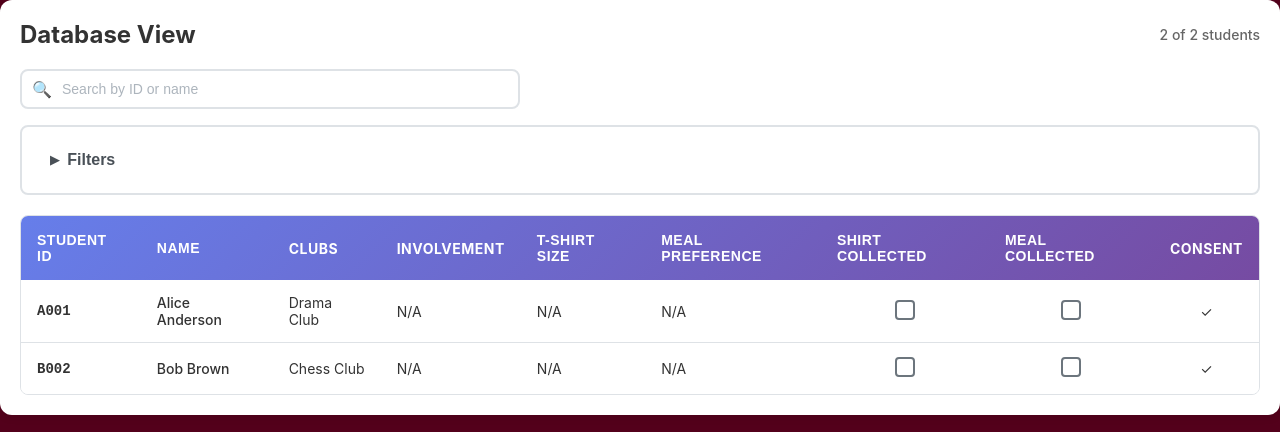
Test: Edge Cases › Empty search query (Requirement 2.4) › should display all records when search query is empty
Expected: the text "Alice Anderson" is shown, [141, 280, 273, 342]
Expected: the text "Bob Brown" is shown, [141, 342, 273, 394]
// Apply search
Type "Alice" into the search field with placeholder "Search by ID or name" at (270, 89), box [20, 69, 520, 109]
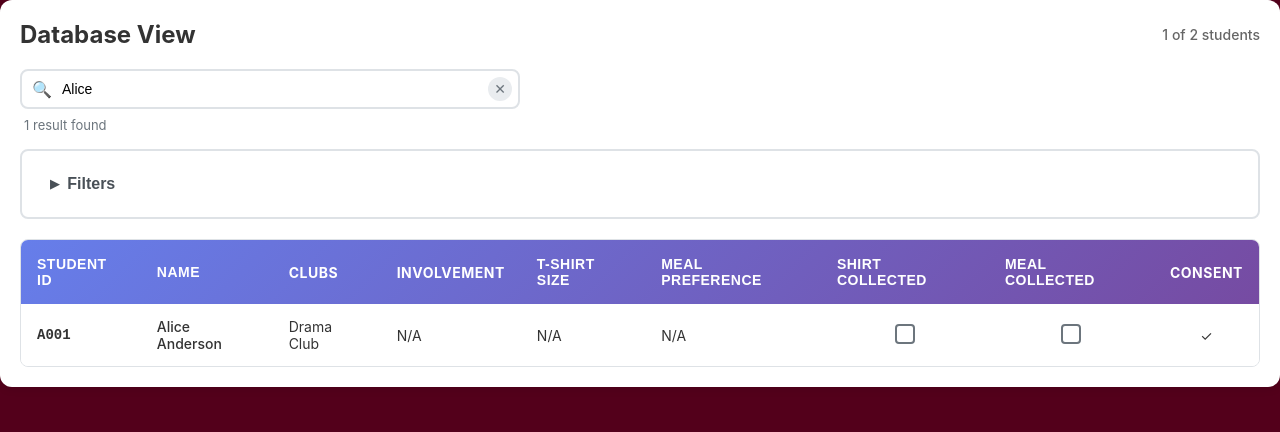
Expected: the text "Alice Anderson" is shown, [141, 304, 273, 366]
Expected: the text "Bob Brown" is gone
// Clear search (empty query)
Clear the search field with placeholder "Search by ID or name" at (270, 89), box [20, 69, 520, 109]
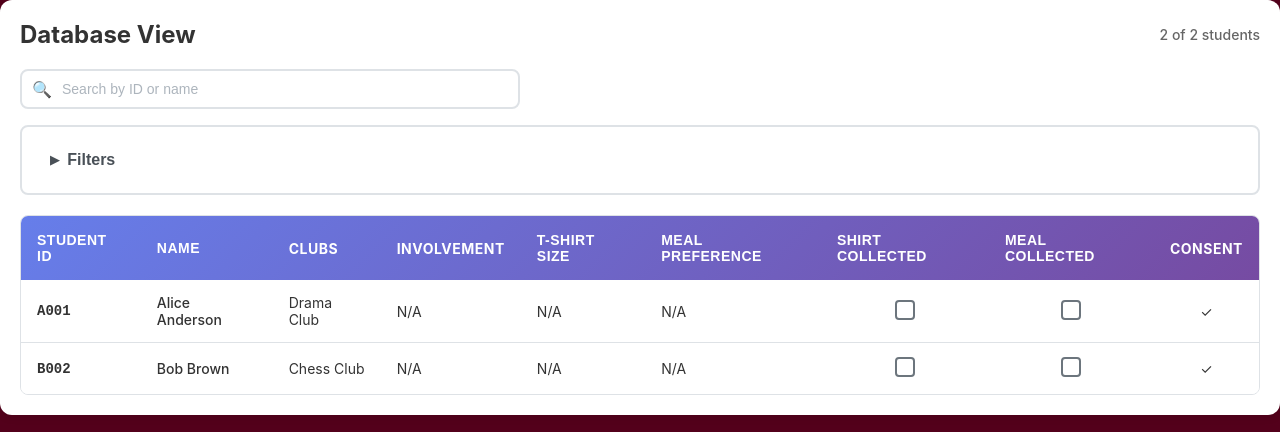
Expected: the text "Alice Anderson" is shown, [141, 280, 273, 342]
Expected: the text "Bob Brown" is shown, [141, 342, 273, 394]
